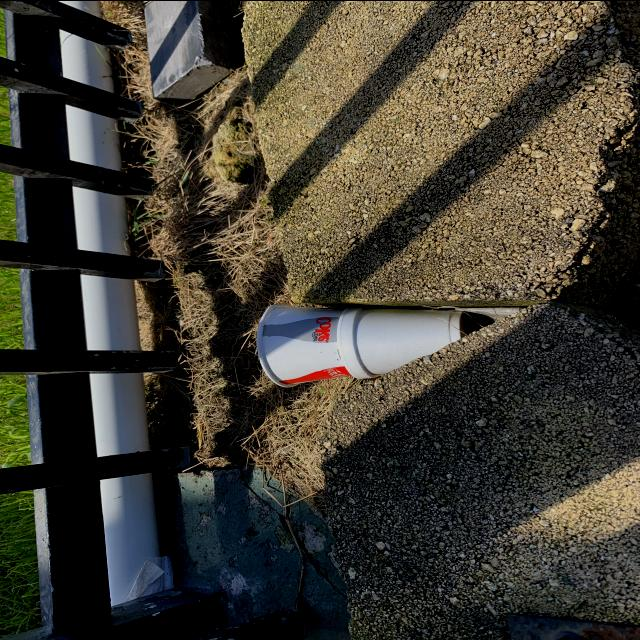Foam cup: (337, 306, 466, 378)
Paper cup: (256, 302, 352, 387)
Plastic film: (455, 306, 522, 319)
Unlabeled litter: (124, 555, 174, 600)
